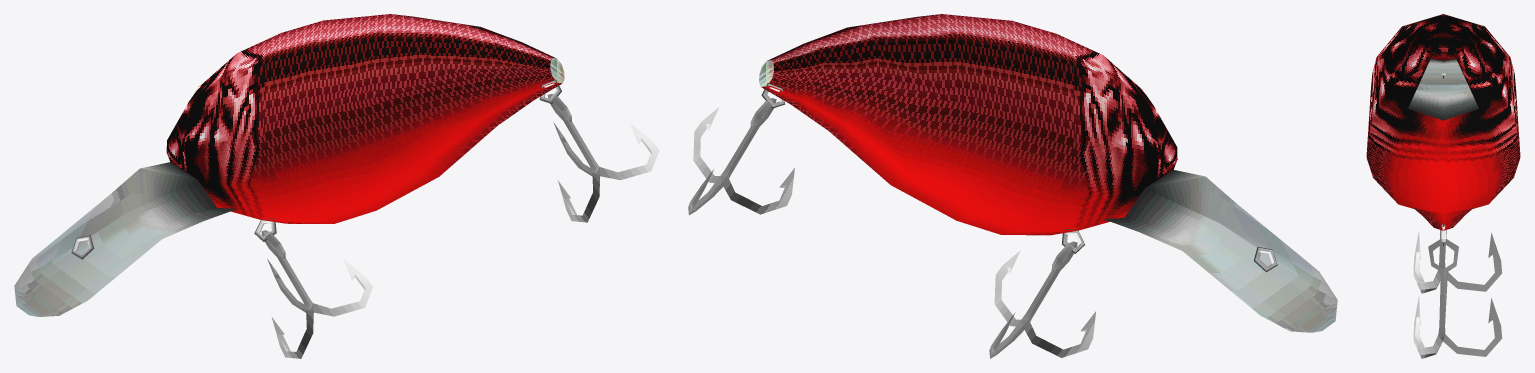
Rendered from ps2_save-icons_markdavisprobasschallenge-variant2.glb.
3 renders of one model, left to right at view 1: azimuth 30°, elevation 25°; view 2: azimuth 150°, elevation 25°; view 3: azimuth 270°, elevation 25°, orthographic. The views are drawn at different scales.
Visible parts, largest first — view 1: icon.ico; view 2: icon.ico; view 3: icon.ico.
Boxes of the visible parts, <box> form: icon.ico: <box>14,14,659,358</box>; icon.ico: <box>688,14,1337,358</box>; icon.ico: <box>1366,14,1520,358</box>.
Bounding box in the file's own units: 4.91 × 2.37 × 1.19.
Materials: 1 (1 with a texture image).
